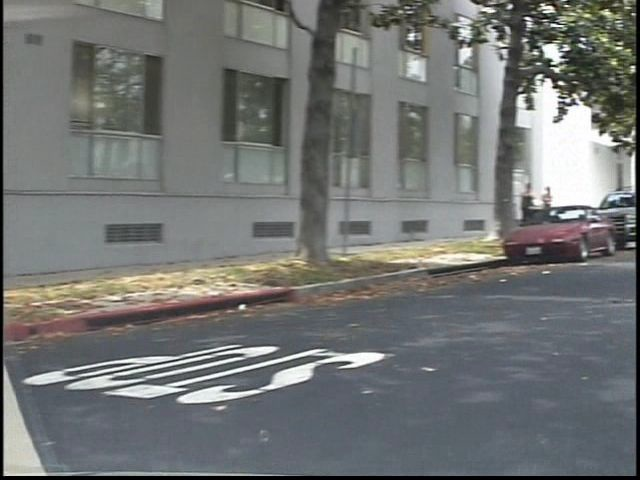person: (530, 178, 553, 240), (550, 183, 575, 236)
